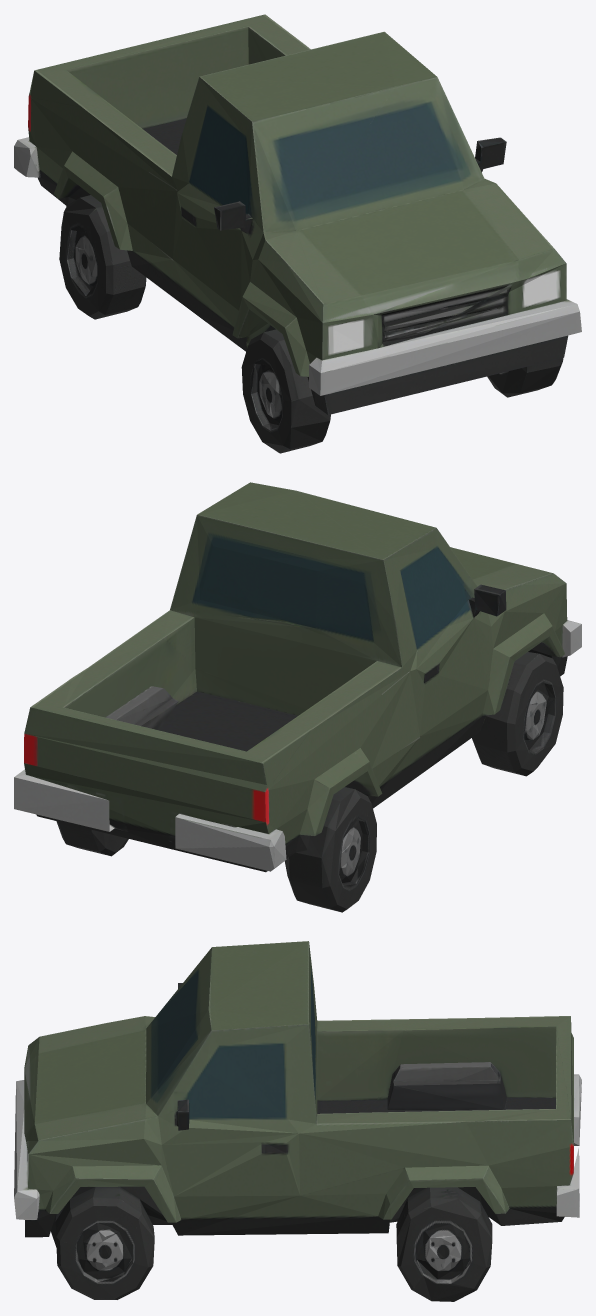
Rendered from S6_ranger_truck_a.glb.
3 views of the same model, one above another, from view 1: azimuth 30°, elevation 25°; view 2: azimuth 150°, elevation 25°; view 3: azimuth 270°, elevation 25° (orthographic). The views are drawn at different scales.
Parts seen in each view (by area): view 1: Mesh_0; view 2: Mesh_0; view 3: Mesh_0.
Part boxes in pixels (x1,y1,x2,y2): Mesh_0: (14, 14, 581, 453); Mesh_0: (14, 482, 581, 912); Mesh_0: (14, 941, 581, 1301).
Bounding box in the file's own units: 2 × 1.89 × 3.73.
Materials: 1 (1 with a texture image).
